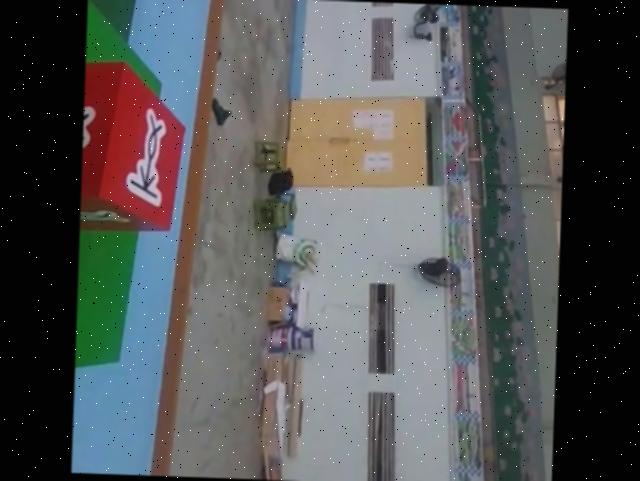R2 Real: (80, 55, 190, 237)
